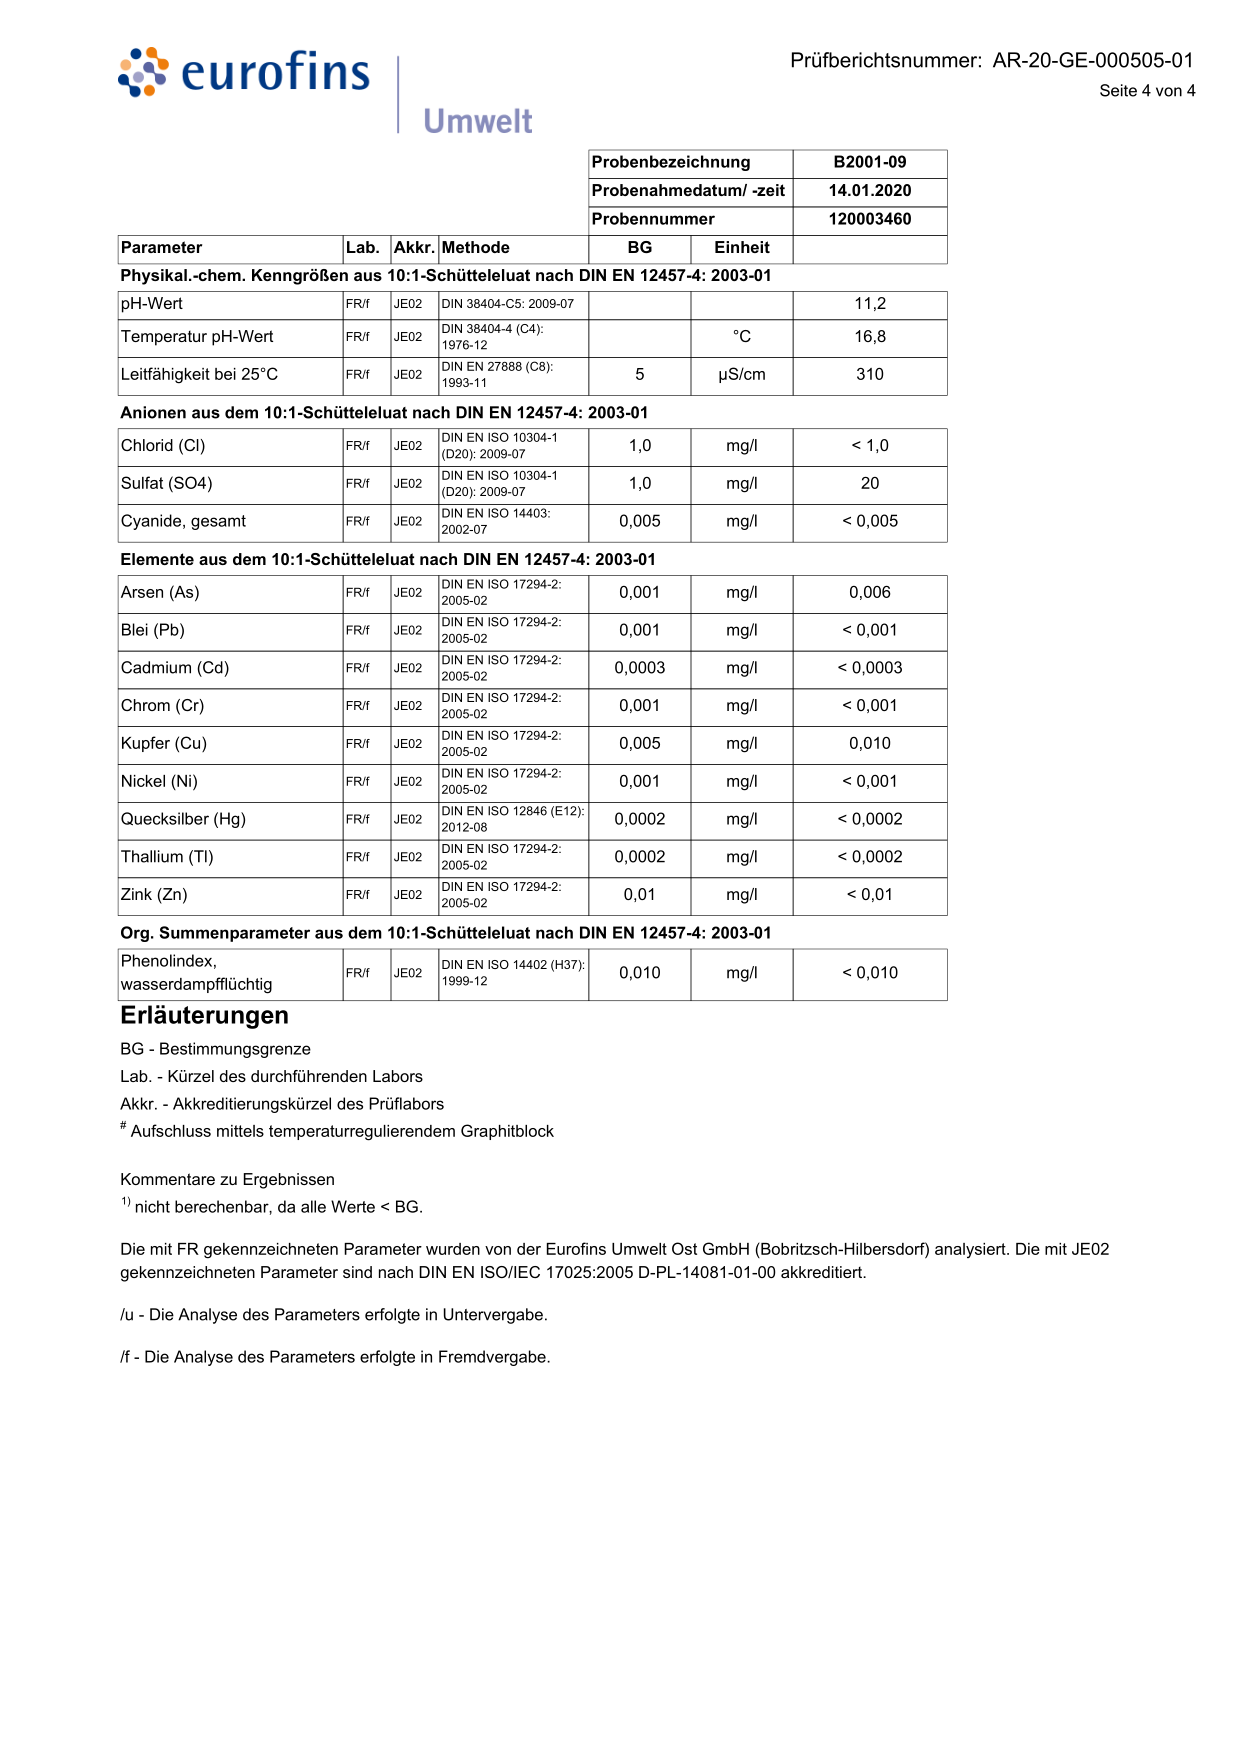table: (101, 570, 980, 924), (110, 427, 966, 549), (110, 287, 960, 401), (107, 946, 961, 1004)
